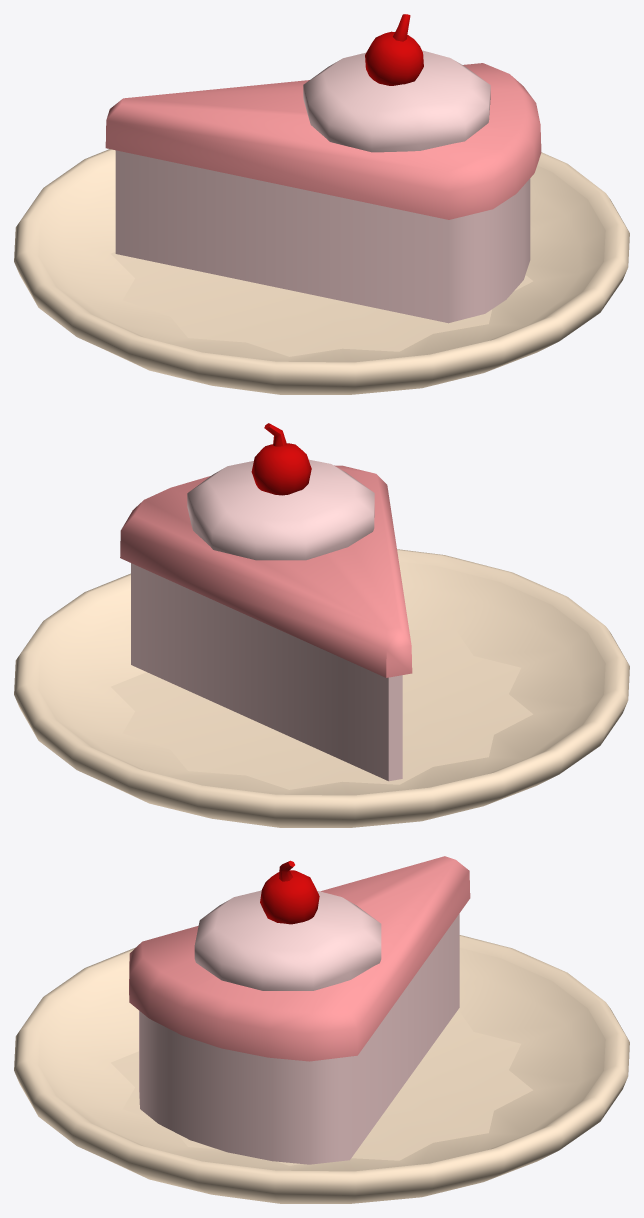
The model's file is 240726_test_cake.fbx.
3 renders of one model, top to bottom at view 1: azimuth 30°, elevation 25°; view 2: azimuth 150°, elevation 25°; view 3: azimuth 270°, elevation 25°, orthographic.
Visible parts, largest first — view 1: Cheesecake, Plate_006, Cake_2; view 2: Plate_006, Cheesecake, Cake_2; view 3: Plate_006, Cheesecake, Cake_2.
Part boxes in pixels (x1=…): Cheesecake: x1=105, y1=63, x2=541, y2=323; Plate_006: x1=14, y1=149, x2=629, y2=394; Cake_2: x1=303, y1=14, x2=490, y2=152; Plate_006: x1=14, y1=549, x2=629, y2=827; Cheesecake: x1=120, y1=465, x2=412, y2=781; Cake_2: x1=187, y1=423, x2=374, y2=560; Plate_006: x1=14, y1=935, x2=629, y2=1203; Cheesecake: x1=129, y1=856, x2=470, y2=1164; Cake_2: x1=194, y1=860, x2=381, y2=990.
Size of what is drawn, in the model's own units: 48.28 by 24.55 by 48.28.
